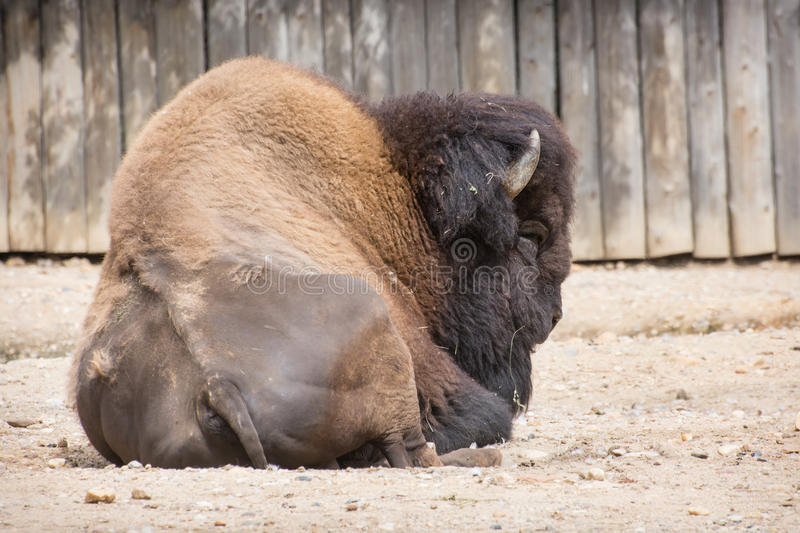yak: (71, 54, 575, 490)
